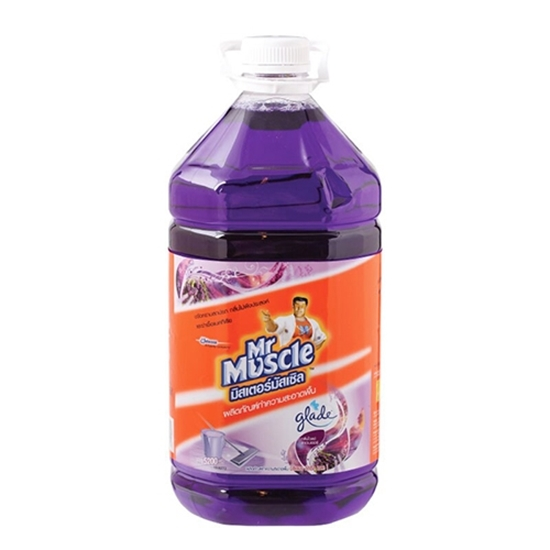Cleaning_solution: (162, 32, 385, 529)
